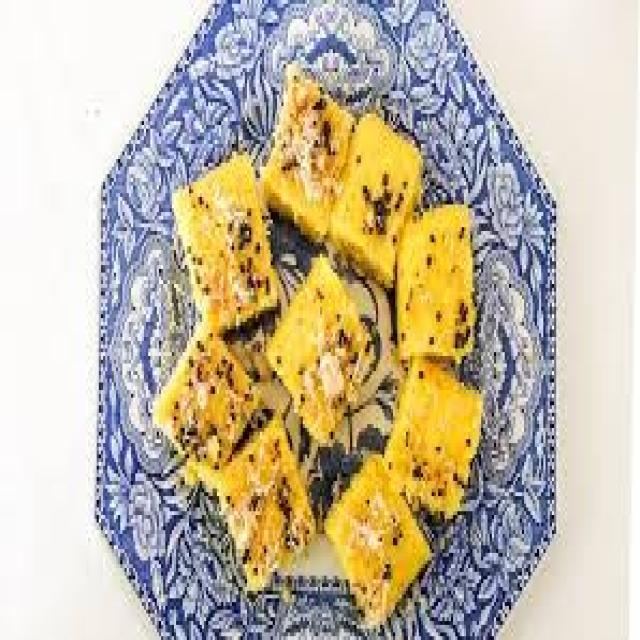DHOKLA: (266, 257, 379, 448), (323, 449, 433, 636), (171, 151, 278, 336), (217, 410, 318, 597), (149, 329, 261, 497), (262, 45, 354, 242), (387, 350, 485, 533), (327, 107, 428, 284), (396, 203, 477, 360)
